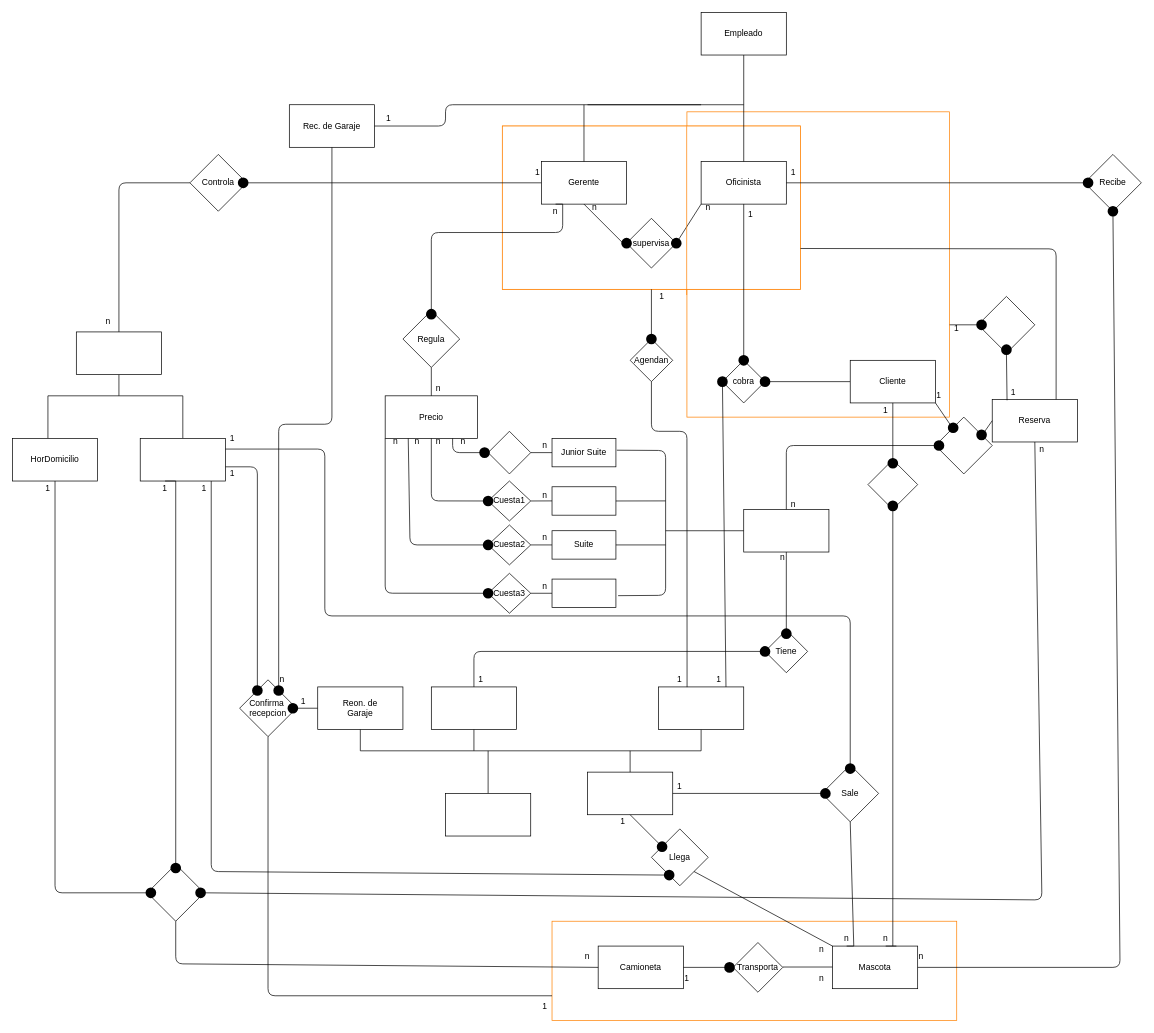
Some shapes in this 1154 by 1033 pixel diagram are drawn without their labels. Each missing label, with the box of its shape:
Acude: (147, 864, 204, 921)
Con Pago: (977, 296, 1035, 353)
Cuesta: (487, 431, 531, 474)
Estandar: (551, 486, 616, 515)
Habitacion: (743, 509, 829, 552)
Hor Hotel: (140, 438, 225, 481)
Horario: (76, 331, 162, 375)
Hotel: (431, 686, 517, 730)
Instalacion: (445, 793, 531, 836)
Mini Suite: (551, 578, 616, 607)
Oficina: (658, 686, 744, 730)
Pertenece: (867, 459, 918, 509)
Reon. de Mascota: (587, 771, 673, 815)
Solicita: (935, 416, 992, 474)
